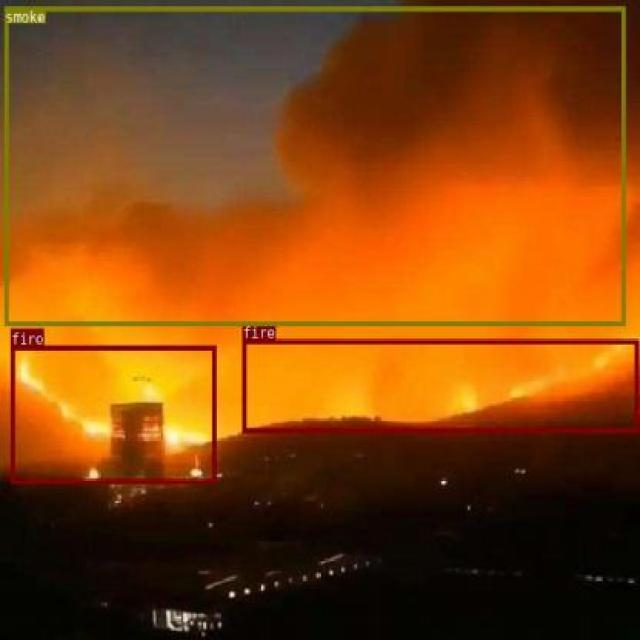Fire: (242, 338, 638, 432), (11, 345, 216, 483)
Smoke: (4, 6, 624, 325)
